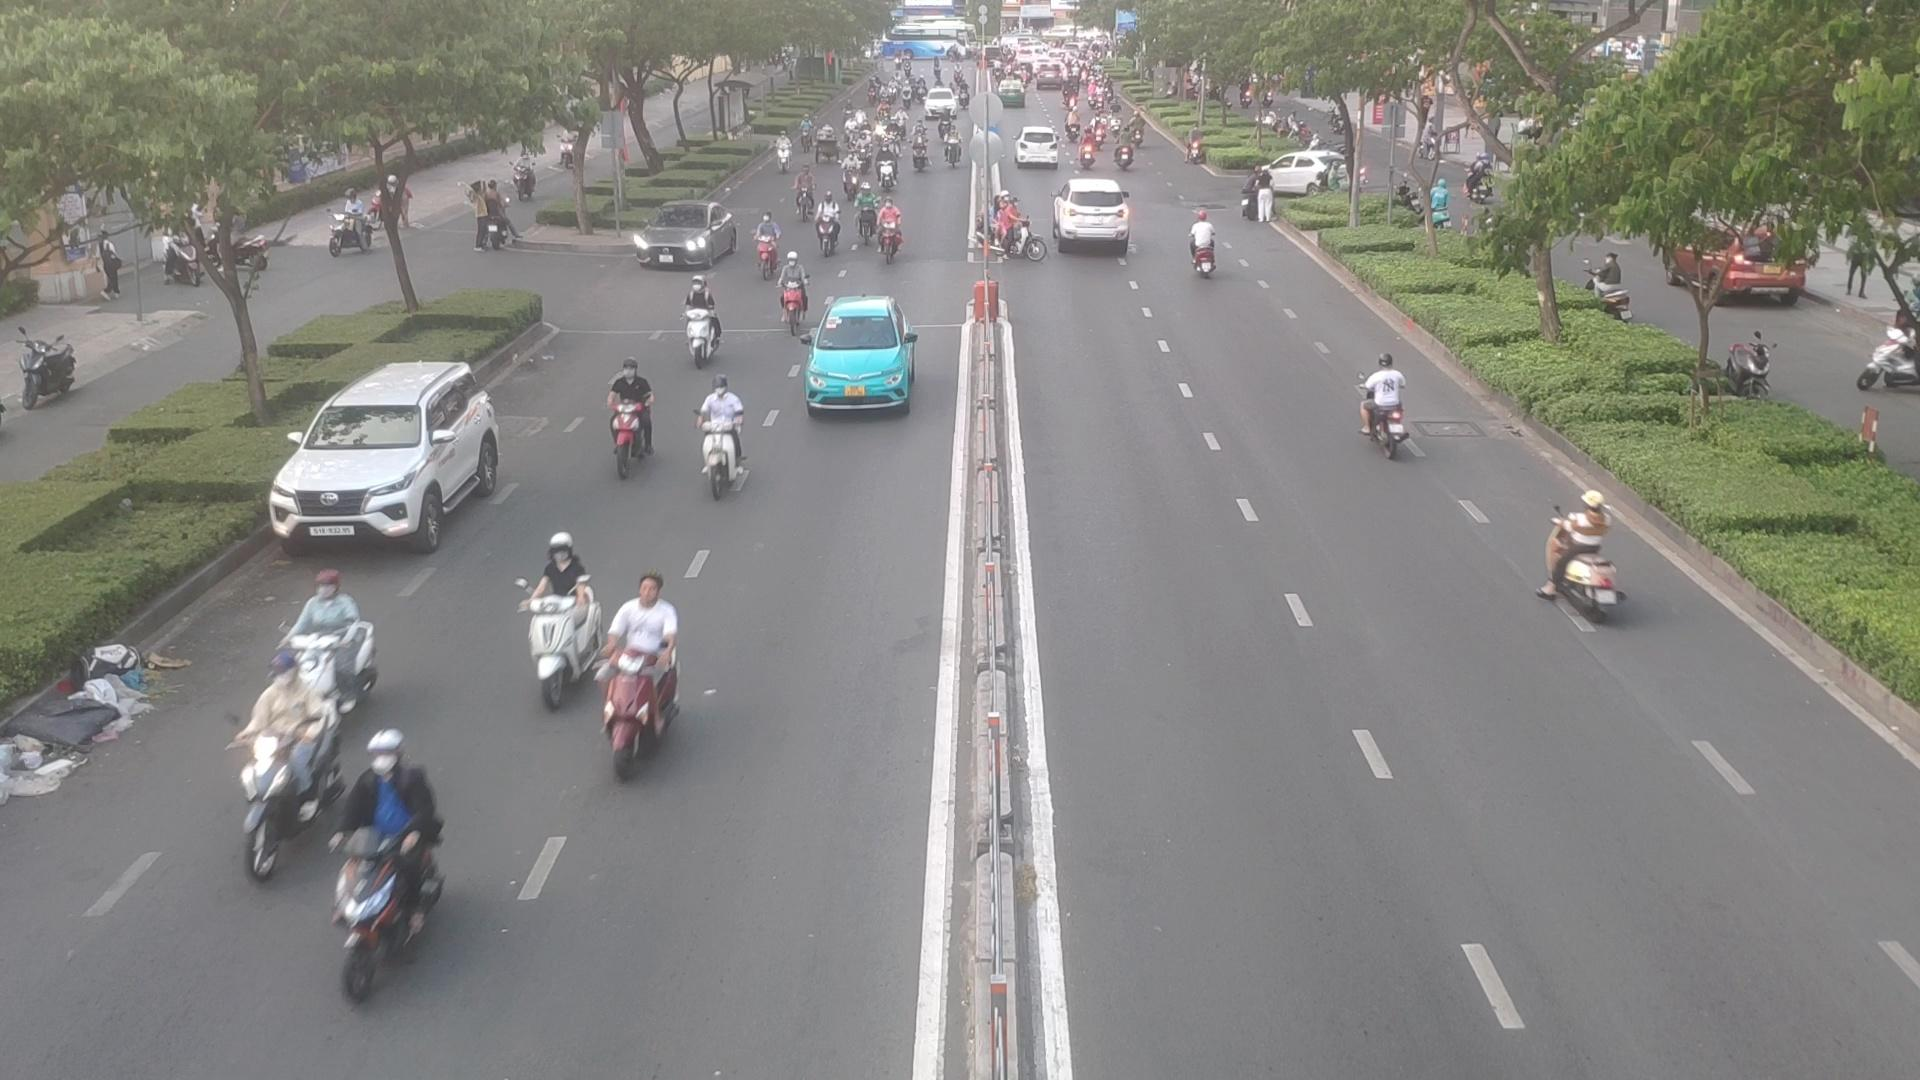car: (270, 361, 505, 558), (804, 295, 920, 421), (636, 200, 742, 270), (1056, 177, 1143, 256), (1262, 150, 1349, 194), (1011, 127, 1064, 167)
motorbike: (315, 723, 471, 964), (273, 574, 411, 731), (583, 582, 694, 771), (231, 661, 334, 858), (525, 538, 620, 740), (1542, 473, 1623, 611), (611, 357, 651, 479), (676, 262, 725, 363), (1364, 353, 1407, 459), (989, 200, 1043, 262), (1857, 344, 1917, 396), (777, 247, 806, 332), (1187, 212, 1220, 284), (753, 208, 778, 278), (884, 195, 909, 262), (856, 178, 877, 237), (837, 152, 860, 199), (796, 171, 818, 222), (1075, 121, 1096, 170), (818, 193, 831, 262), (877, 144, 899, 185), (774, 135, 793, 174), (943, 128, 961, 167), (910, 131, 928, 169), (1116, 123, 1131, 166), (858, 135, 872, 174)
